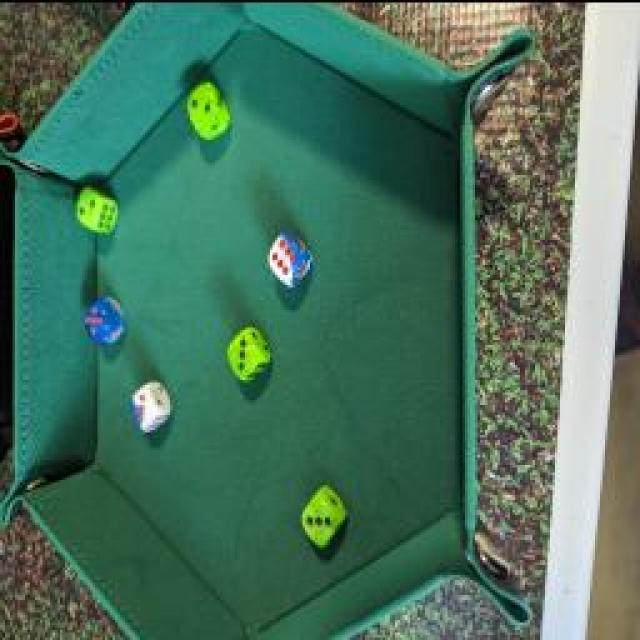dice_2: (186, 78, 234, 140), (74, 182, 124, 238)
dice_3: (299, 478, 349, 548), (226, 320, 274, 385), (128, 368, 172, 432)
dice_5: (85, 290, 125, 350)
dice_6: (266, 222, 314, 282)
